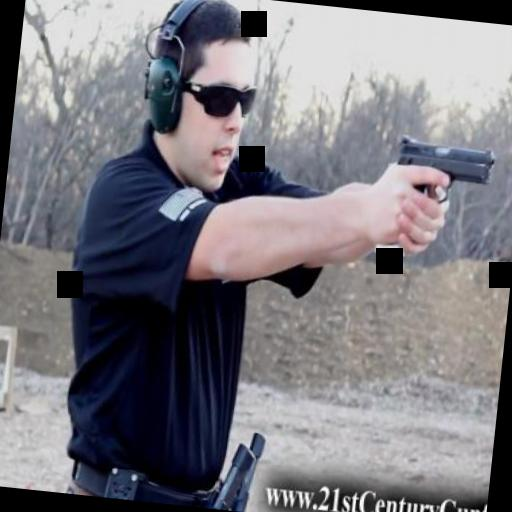Handgun: (367, 129, 497, 278)
